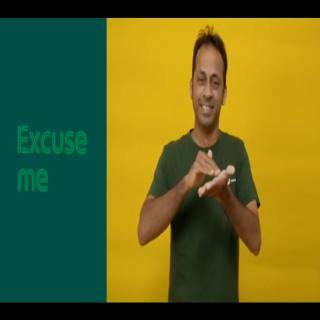ExcuseMe: (137, 31, 260, 302)
